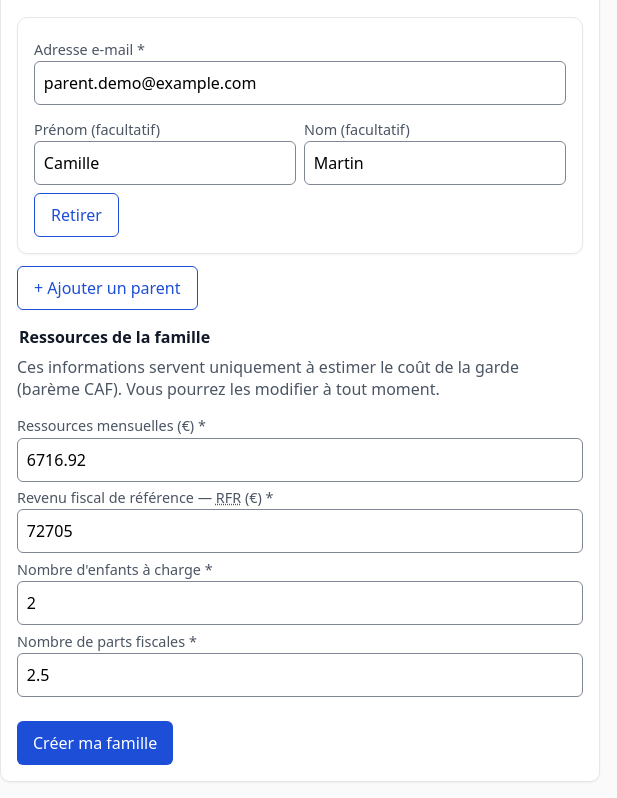
Test: FoyerFormPage › affiche les erreurs champ par champ en cas d'ApiError 400
(page scrolled)
Click the button "Créer ma famille" at (95, 743), box top-left (17, 721), bottom-right (173, 765)
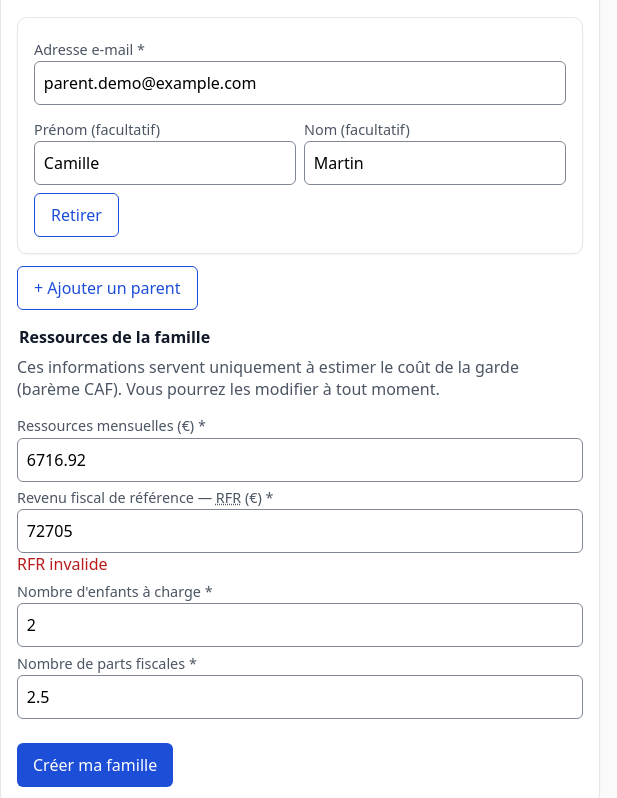
Result: the text "RFR invalide" is shown at top-left (17, 553), bottom-right (108, 575)
